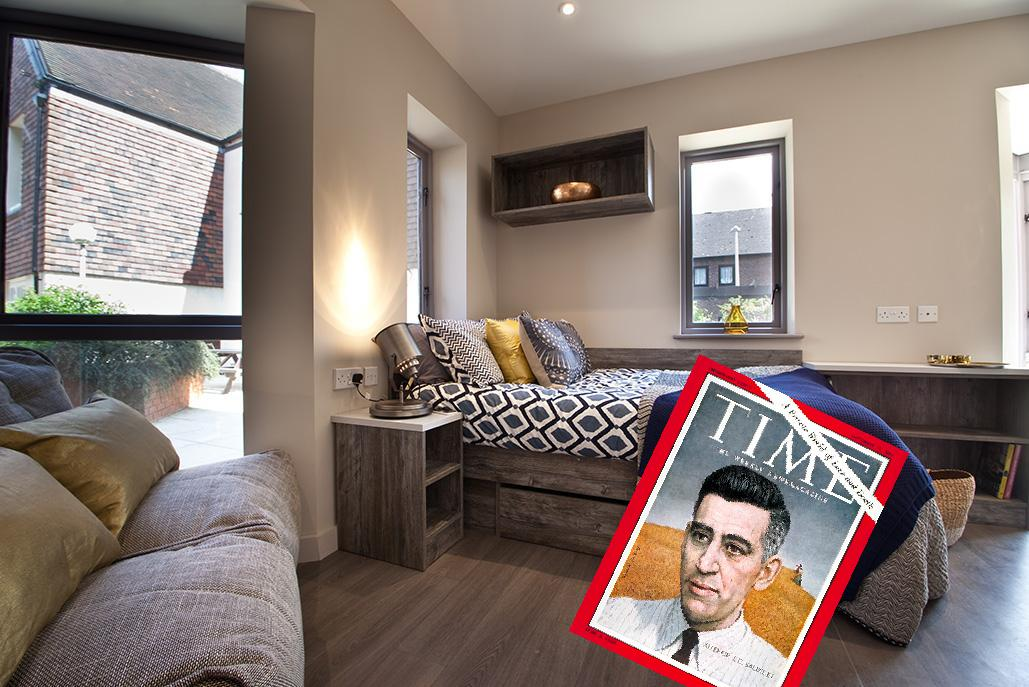times: (568, 357, 911, 687)
